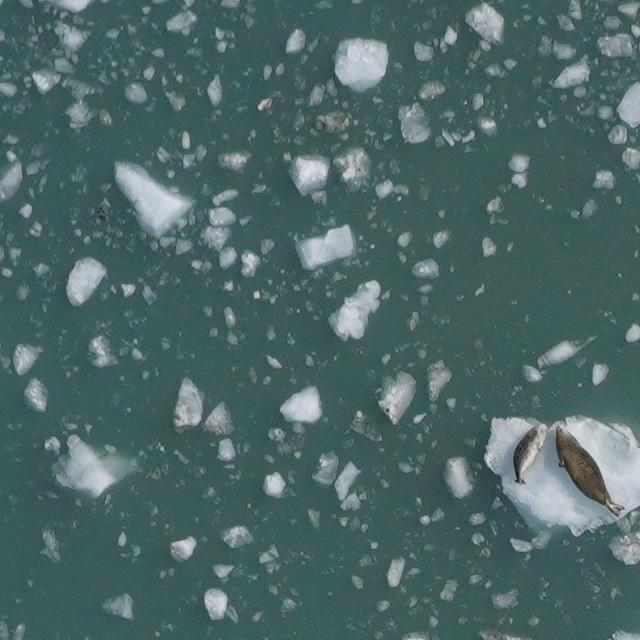seal: (549, 420, 629, 521), (507, 418, 552, 488)
